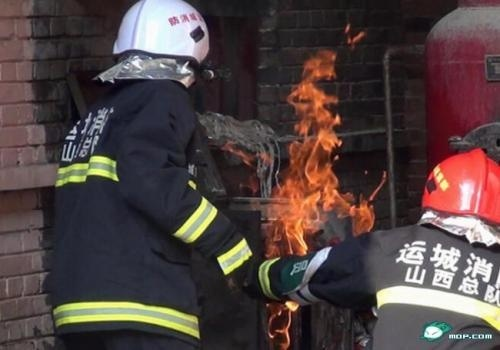fire: (260, 45, 381, 255)
